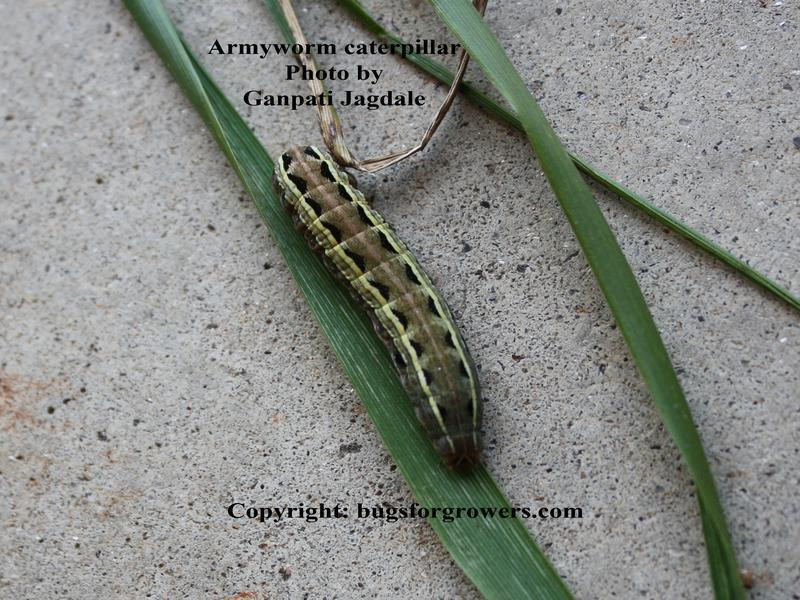Armyworms: (264, 140, 512, 476)
